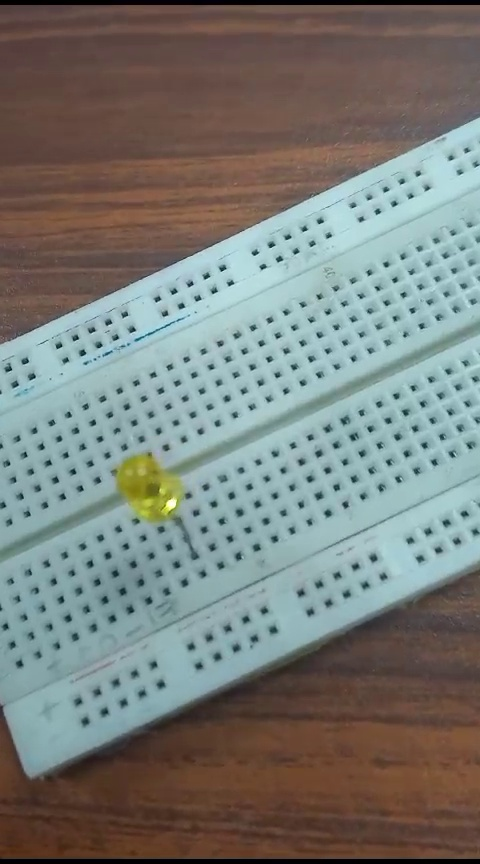LED: (107, 448, 220, 576)
